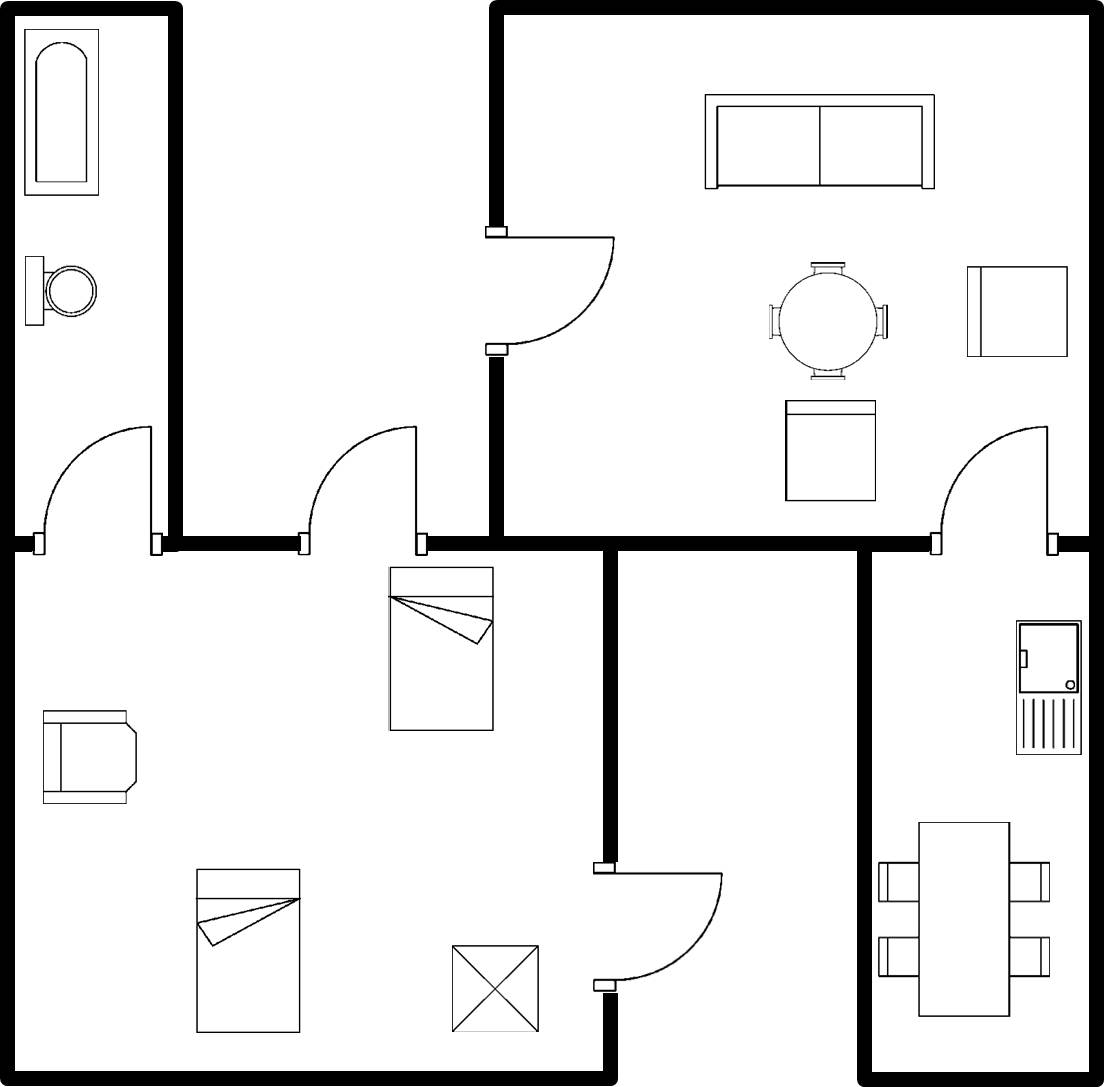bed: (379, 560, 502, 743), (187, 859, 307, 1044)
coffee_table: (444, 933, 549, 1046)
dining_table: (872, 812, 1061, 1027)
large_sink: (33, 700, 146, 813), (20, 244, 104, 340)
large_sofa: (694, 85, 943, 200)
round_table: (757, 254, 898, 388)
sink: (1010, 614, 1089, 764)
small_sofa: (776, 393, 888, 512), (955, 260, 1073, 365)
tub: (18, 23, 112, 208)
